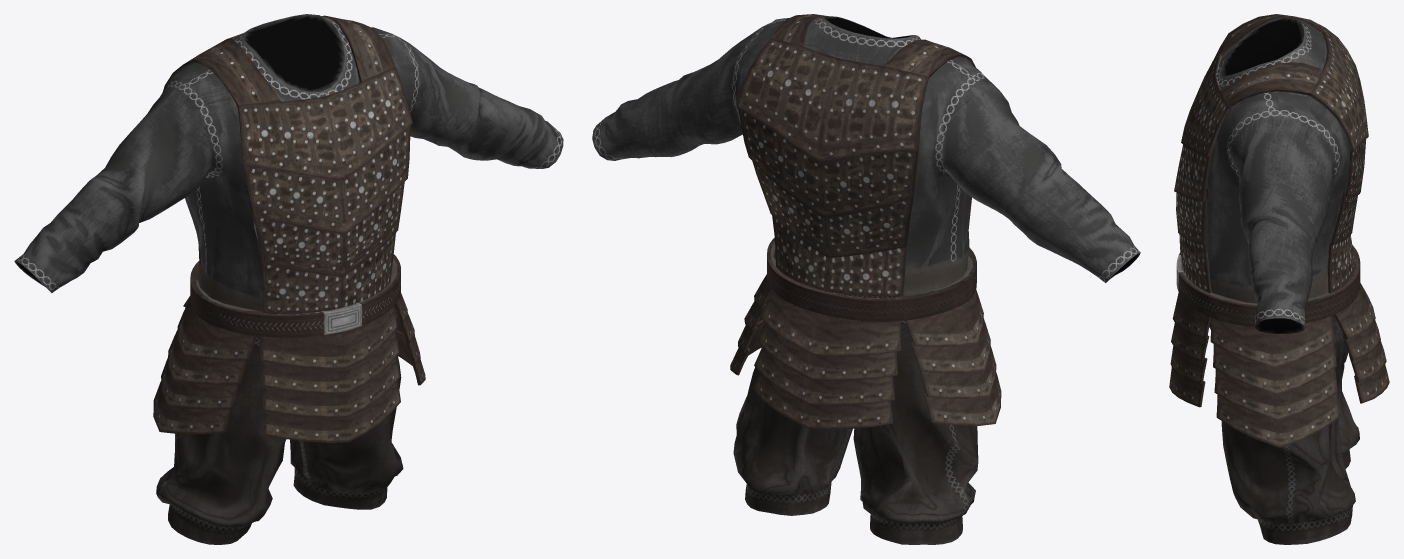
File: sk_dwarf_erebor_chest_leather_light_c.fbx
The picture shows the model from 3 angles, left to right: view 1: azimuth 30°, elevation 25°; view 2: azimuth 150°, elevation 25°; view 3: azimuth 270°, elevation 25°; orthographic projection. The views are drawn at different scales.
Visible parts, largest first — view 1: sk_dwarf_erebor_chest_leather_light_c.0, sk_dwarf_erebor_chest_leather_light_c.1; view 2: sk_dwarf_erebor_chest_leather_light_c.0, sk_dwarf_erebor_chest_leather_light_c.1; view 3: sk_dwarf_erebor_chest_leather_light_c.0, sk_dwarf_erebor_chest_leather_light_c.1.
Part boxes in pixels (<box>): sk_dwarf_erebor_chest_leather_light_c.0: <box>14,14,563,442</box>; sk_dwarf_erebor_chest_leather_light_c.1: <box>156,336,403,544</box>; sk_dwarf_erebor_chest_leather_light_c.0: <box>592,14,1140,429</box>; sk_dwarf_erebor_chest_leather_light_c.1: <box>733,320,978,544</box>; sk_dwarf_erebor_chest_leather_light_c.0: <box>1169,14,1389,447</box>; sk_dwarf_erebor_chest_leather_light_c.1: <box>1209,315,1359,544</box>.
Bounding box in the file's own units: 1.17 × 0.4355 × 1.02.
Materials: 2 (2 with a texture image).
